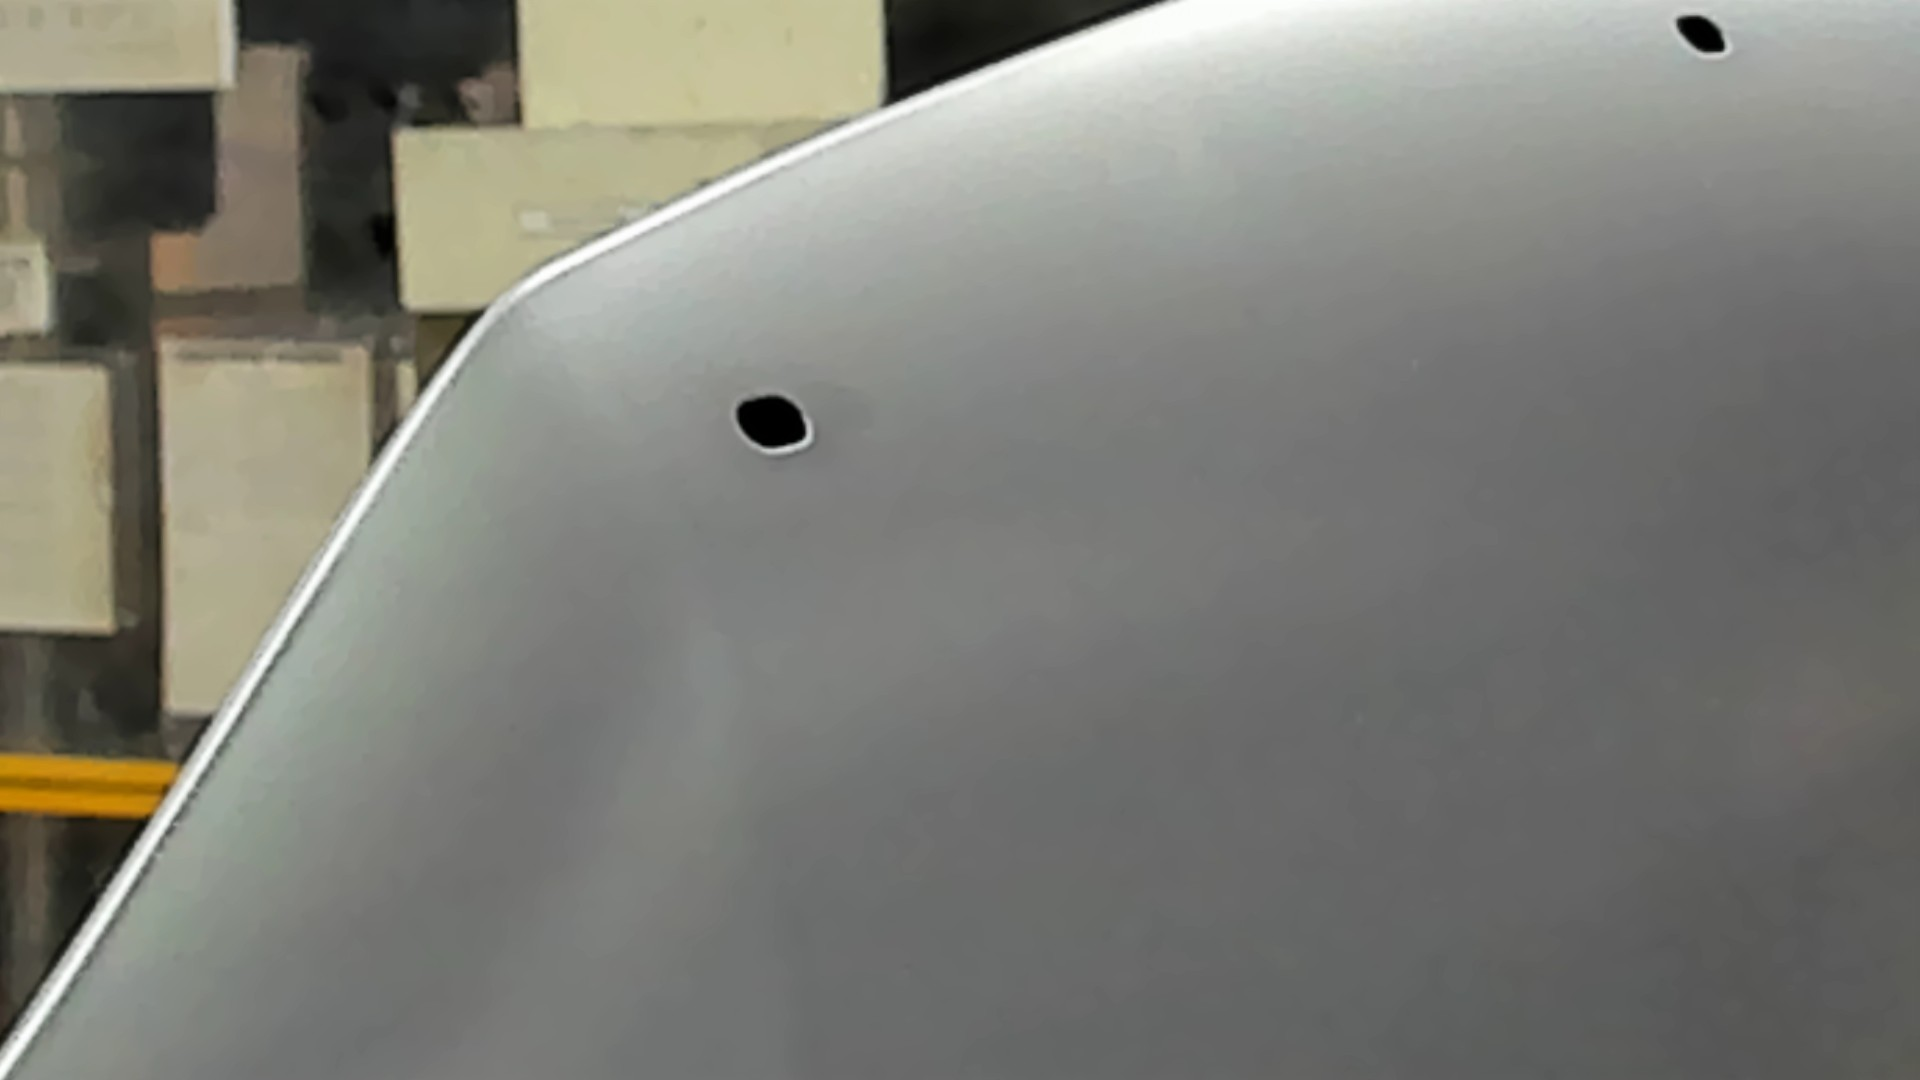amorfo: (725, 385, 816, 473), (1665, 8, 1739, 65)
capo: (916, 124, 1920, 1080)
